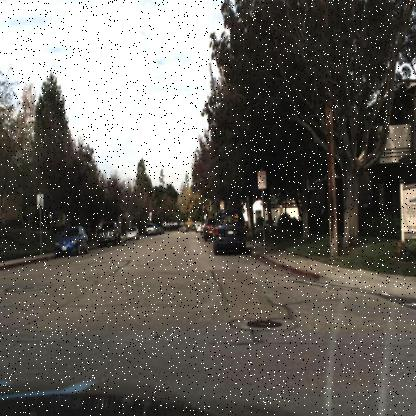car: (211, 211, 247, 255), (51, 220, 89, 259), (54, 220, 88, 261), (95, 215, 124, 251), (95, 217, 121, 249), (202, 215, 217, 243), (123, 221, 139, 244), (143, 219, 157, 238)
